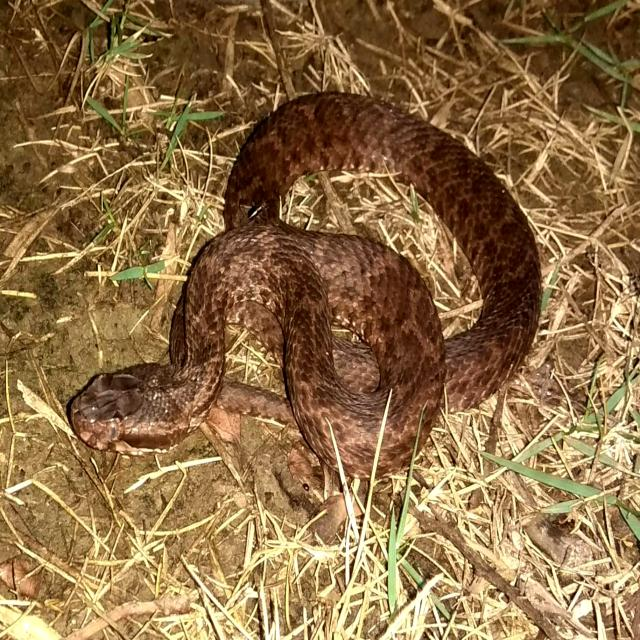Ovophis monticola: (70, 93, 540, 476)
snake: (70, 93, 540, 476)
